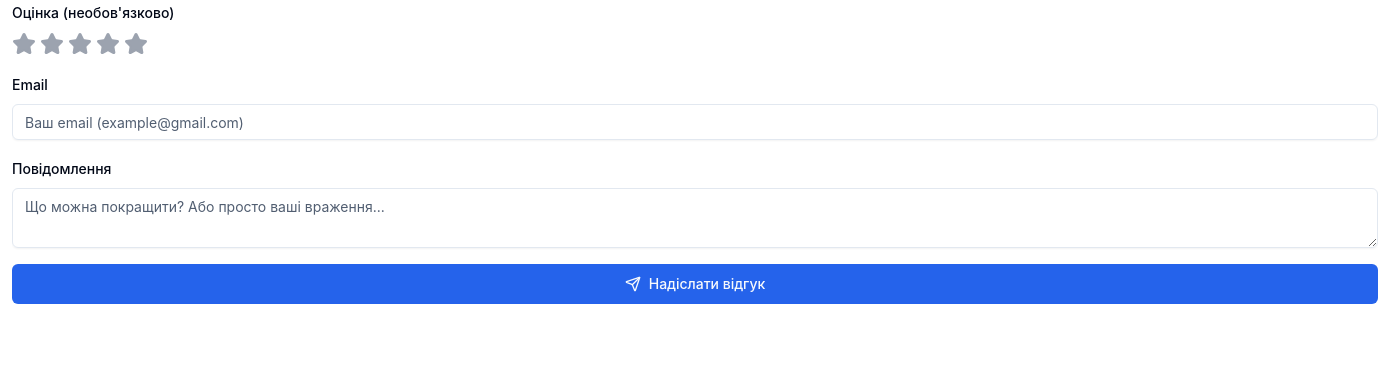
Scenario: FeedbackForm › shows validation errors for short message
In the text box with placeholder "Що можна покращити? Або просто ваші враження...": (695, 218) [12,188,1378,248], type "short"
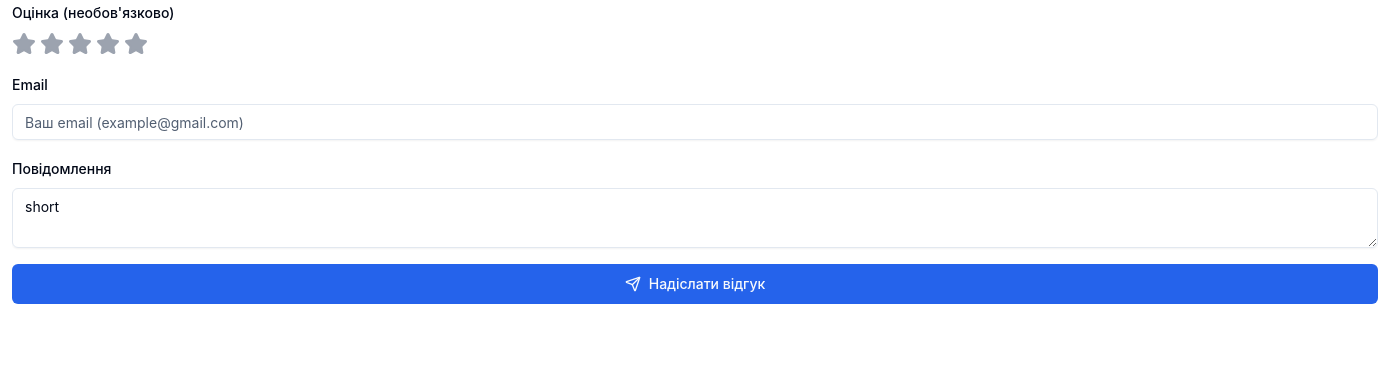
Click the button "Надіслати відгук": (695, 284) [12,264,1378,304]
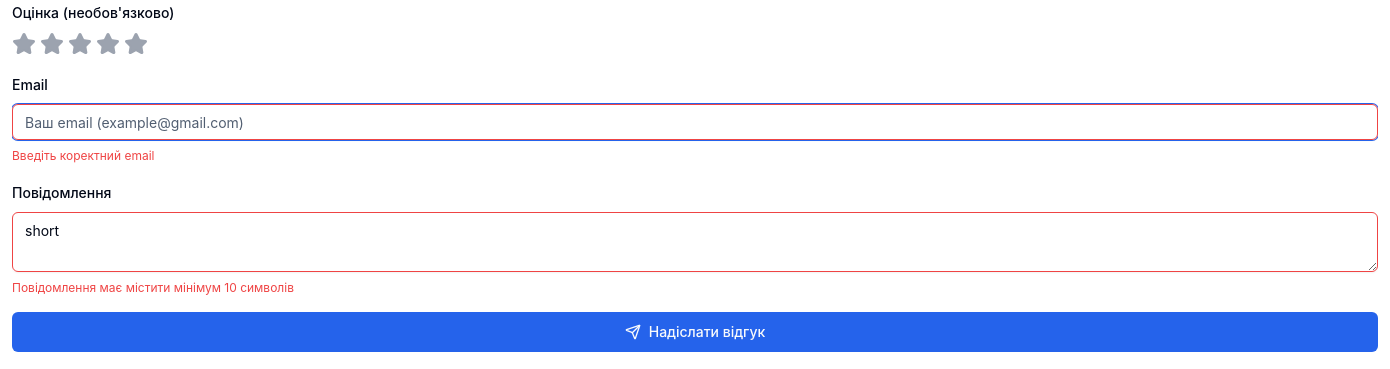
Check: the text "Повідомлення має містити мінімум 10 символів" is shown, box [12,280,294,295]
